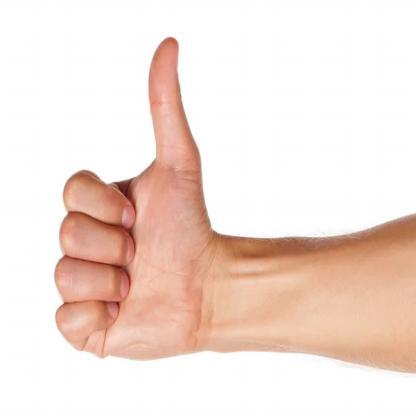thumb_up: (54, 32, 216, 364)
